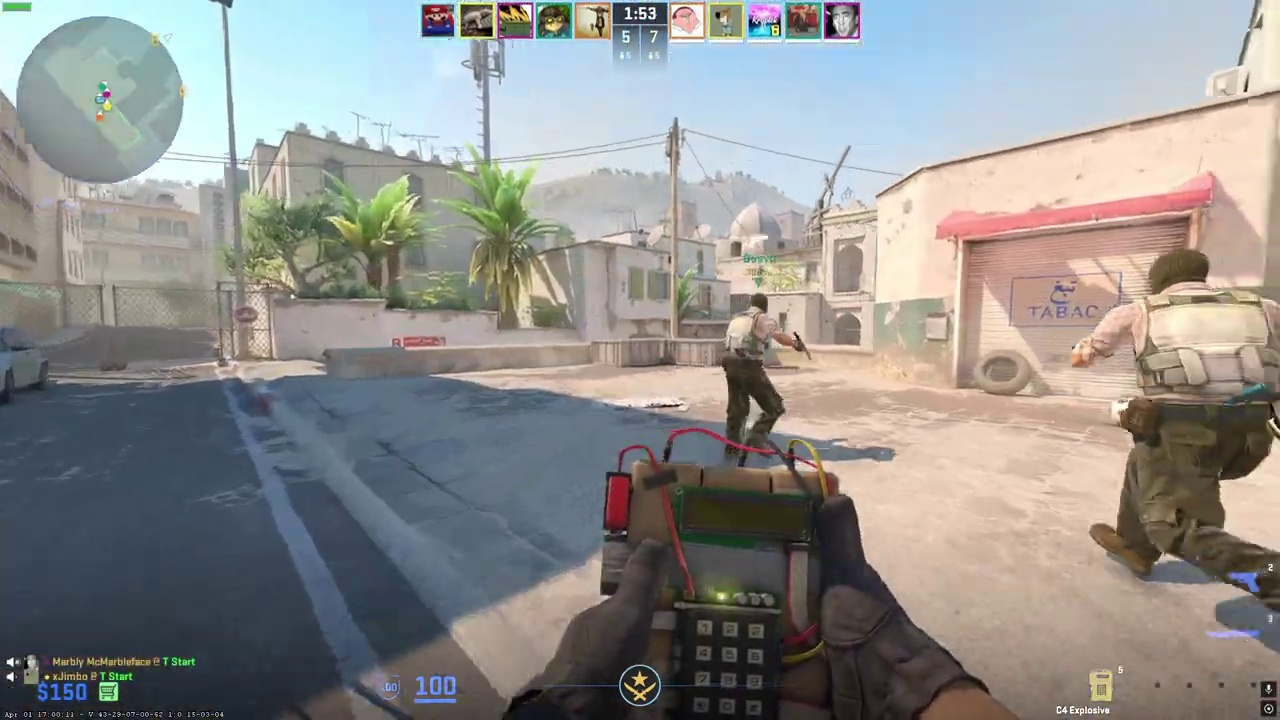Terrorist: (1095, 249, 1278, 591), (719, 291, 789, 462)
